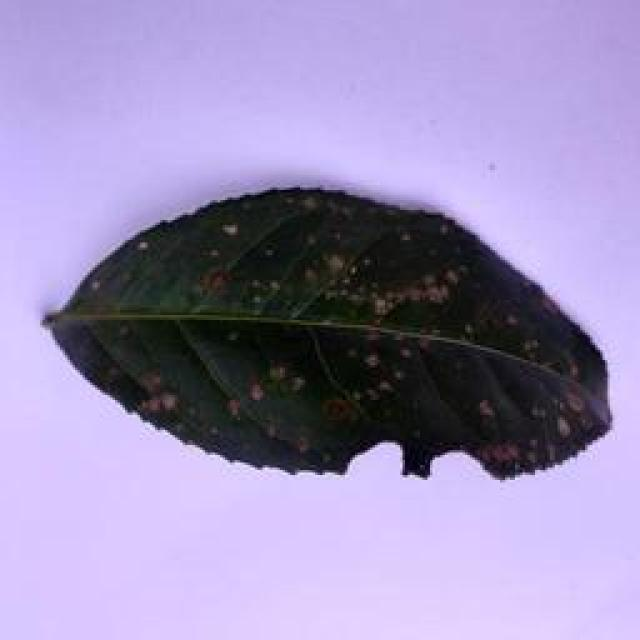Algal Leaf Spot: (47, 175, 611, 487)
